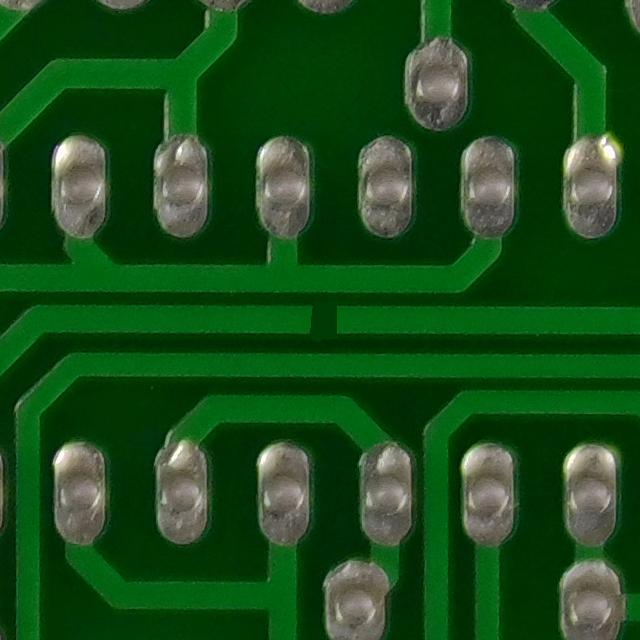open_circuit: (290, 295, 351, 345)
